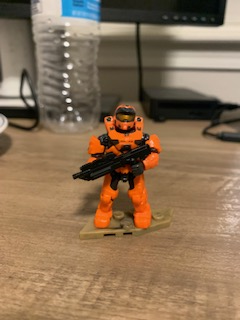rifle: (73, 143, 152, 183)
spartan: (87, 103, 163, 233)
